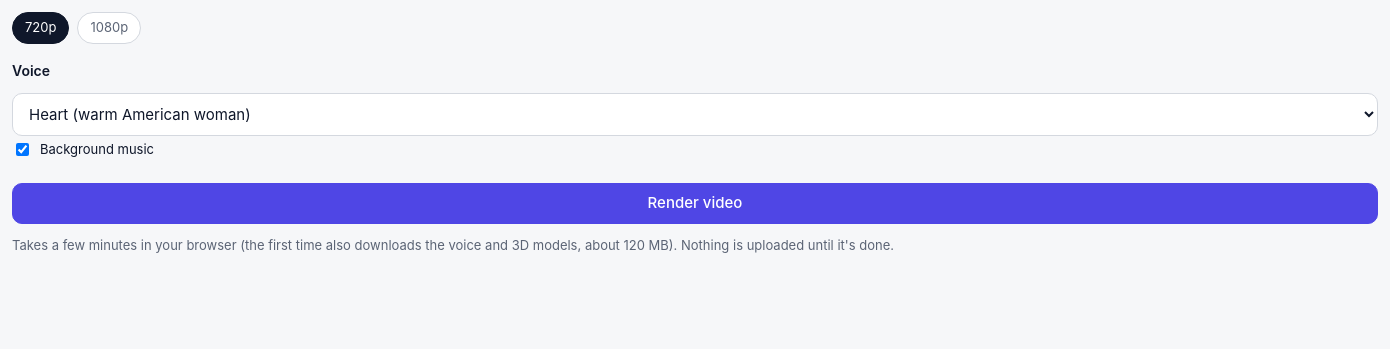
Test case: RenderPanel › shows the server's reason when the render can't start
The image size is (1390, 349).
Click the button "Render video". click: (695, 203)
box: [12, 183, 1378, 224]
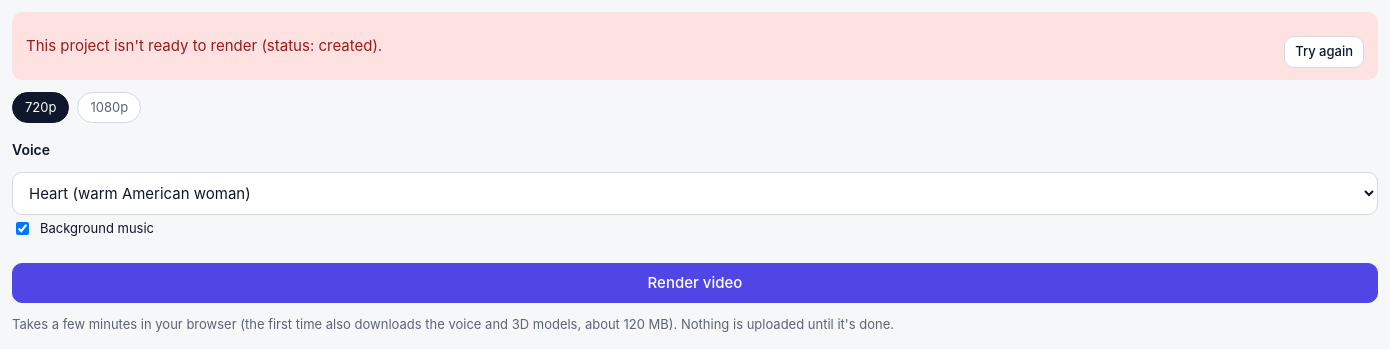
Expected: the text "This project isn't ready to render (status: created)." is shown, [26, 34, 382, 57]
